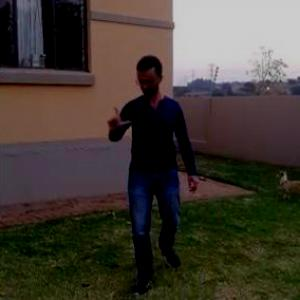land_hand: (106, 100, 138, 136)
